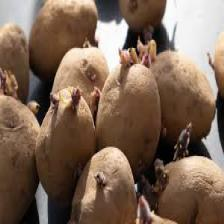Bud: (166, 111, 196, 181), (148, 150, 172, 200), (132, 33, 159, 76), (0, 70, 22, 116), (88, 164, 114, 197), (132, 184, 152, 224), (118, 39, 137, 81), (85, 81, 103, 121), (23, 94, 40, 130), (65, 82, 82, 118), (48, 78, 64, 115)
Sprouted potato: (134, 26, 218, 148), (94, 44, 160, 166), (130, 145, 224, 224), (34, 84, 96, 194)
